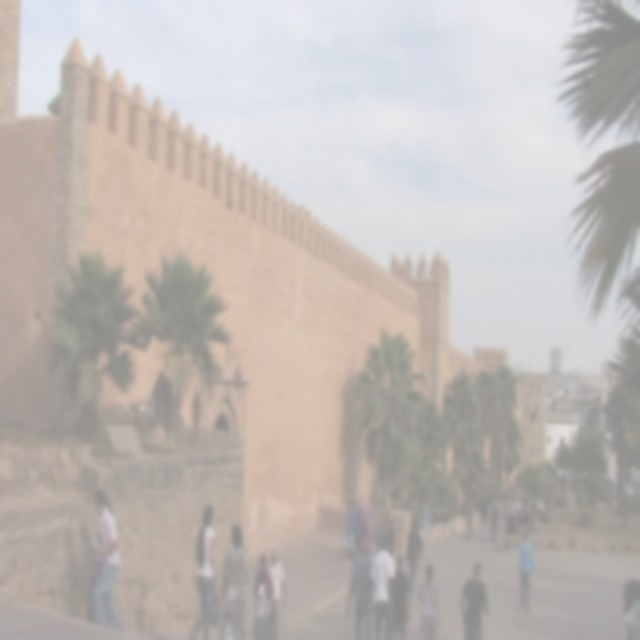pessoa: (184, 501, 220, 639), (92, 486, 125, 634), (218, 520, 251, 639), (344, 532, 376, 639), (368, 530, 395, 638), (458, 558, 491, 638), (342, 485, 372, 560), (416, 560, 441, 639), (268, 546, 289, 638), (391, 552, 412, 639), (404, 516, 424, 603), (618, 576, 640, 639), (518, 530, 534, 614), (253, 552, 275, 604), (252, 582, 270, 638), (418, 494, 432, 562), (462, 490, 475, 544), (488, 500, 500, 546), (506, 494, 518, 536), (502, 494, 514, 534), (374, 516, 384, 555), (478, 498, 490, 530), (515, 490, 525, 526), (387, 518, 395, 558)
